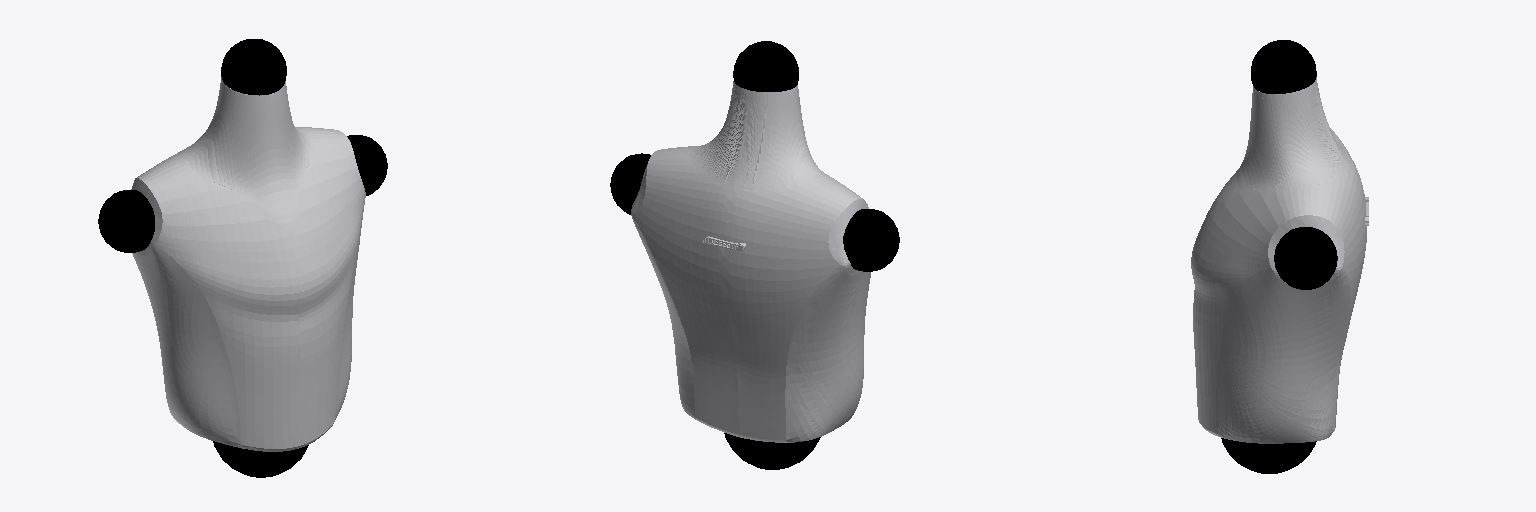
The model's file is torso.obj.
The picture shows the model from 3 angles: view 1: azimuth 30°, elevation 25°; view 2: azimuth 150°, elevation 25°; view 3: azimuth 270°, elevation 25°; orthographic projection.
Visible parts, largest first — view 1: Sólido1; view 2: Sólido1; view 3: Sólido1.
Boxes of the visible parts, x1,y1,x2,y2 form: Sólido1: [98, 39, 387, 477]; Sólido1: [610, 41, 899, 469]; Sólido1: [1191, 40, 1368, 473].
Size of the model in its own units: 19.4 by 28.12 by 10.62.